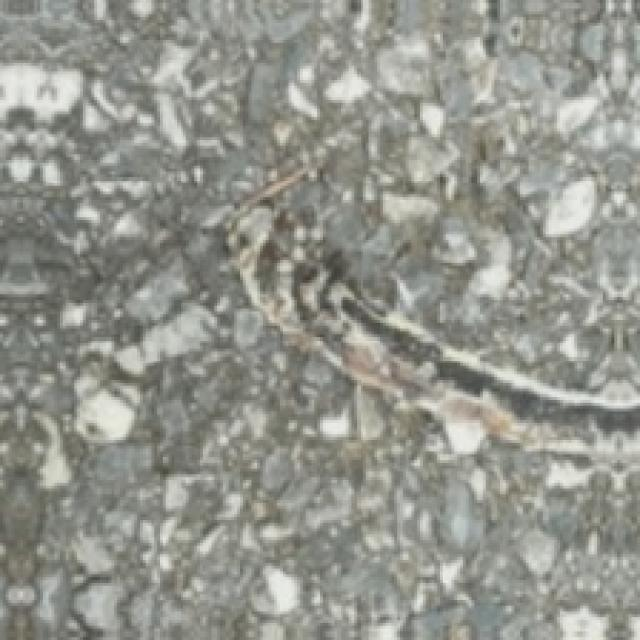king cobra: (229, 163, 637, 451)
